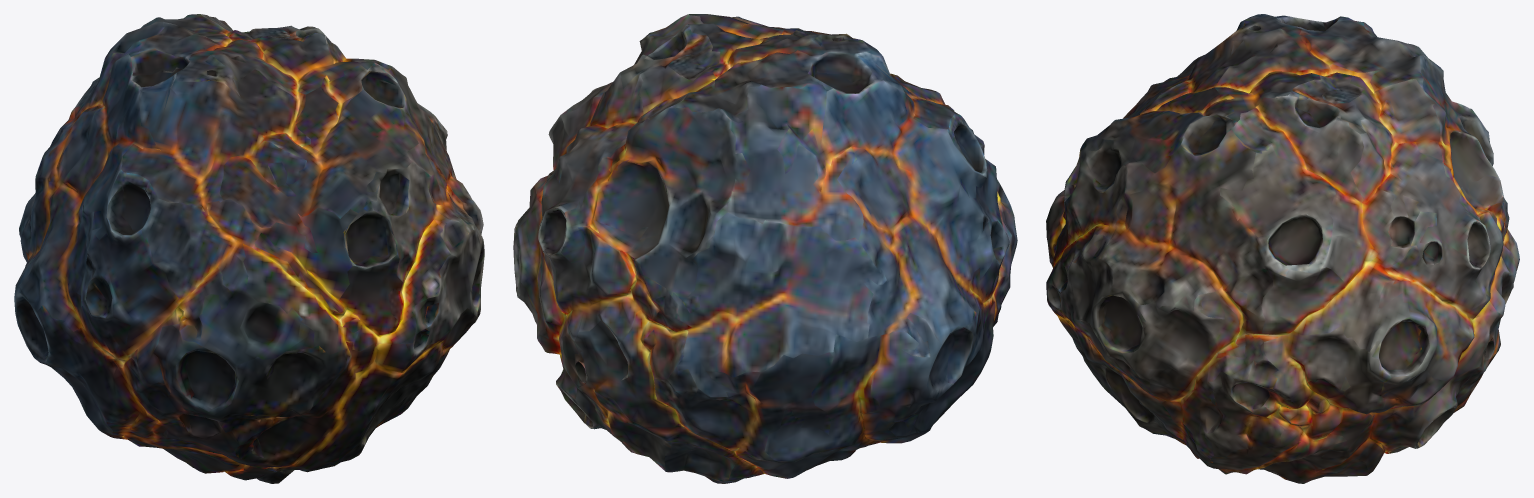
The picture shows the model from 3 angles, left to right: view 1: azimuth 30°, elevation 25°; view 2: azimuth 150°, elevation 25°; view 3: azimuth 270°, elevation 25°; orthographic projection. The views are drawn at different scales.
Size of the model in its own units: 0.9715 by 0.9696 by 1.
1 material, 1 textured.
